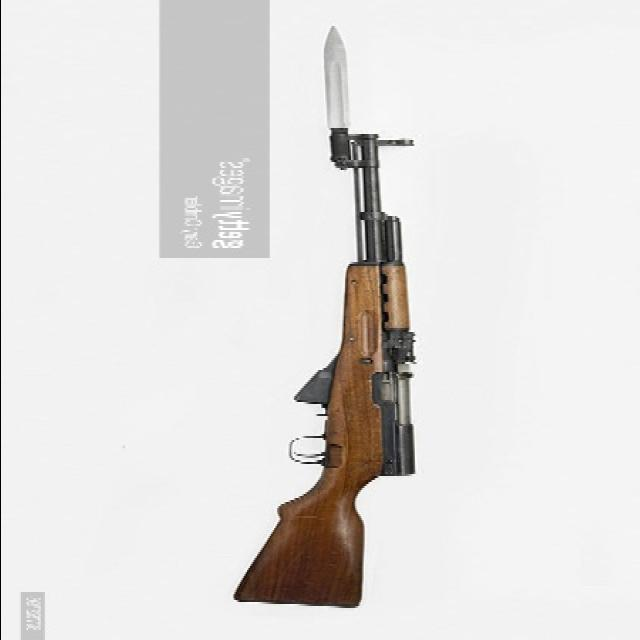rifle: (227, 17, 439, 627)
